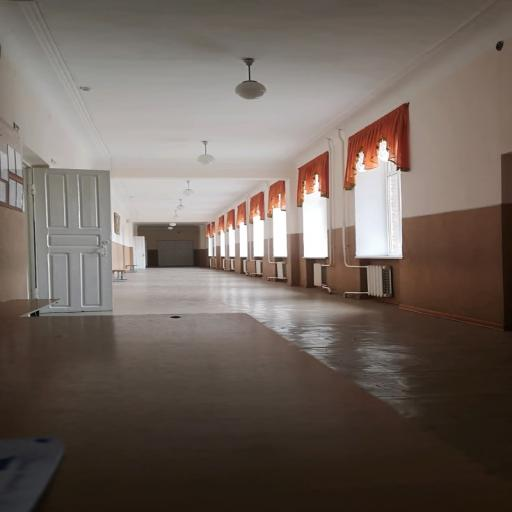car: (0, 0, 512, 512)
child: (21, 164, 124, 314)
